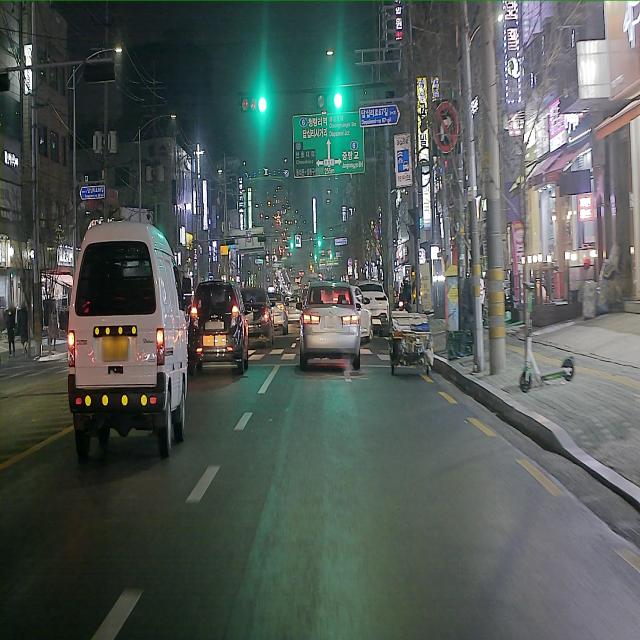Green Light: (257, 94, 267, 115), (333, 92, 343, 110)
